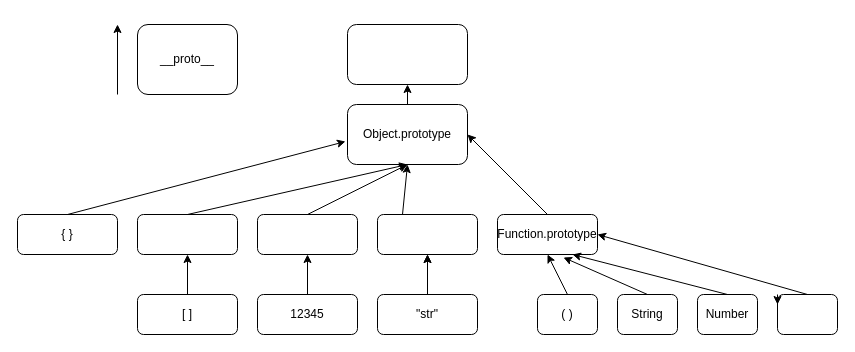
This 855x352 diagram has some shape labels left out. The box of each missing label's shape, as (x1, y1, x2, y2) in pixels:
Array: (776, 294, 838, 334)
Array.prototype: (136, 214, 238, 254)
null: (346, 24, 468, 84)
Number.prototype: (256, 214, 358, 254)
String.prototype: (376, 214, 478, 254)
